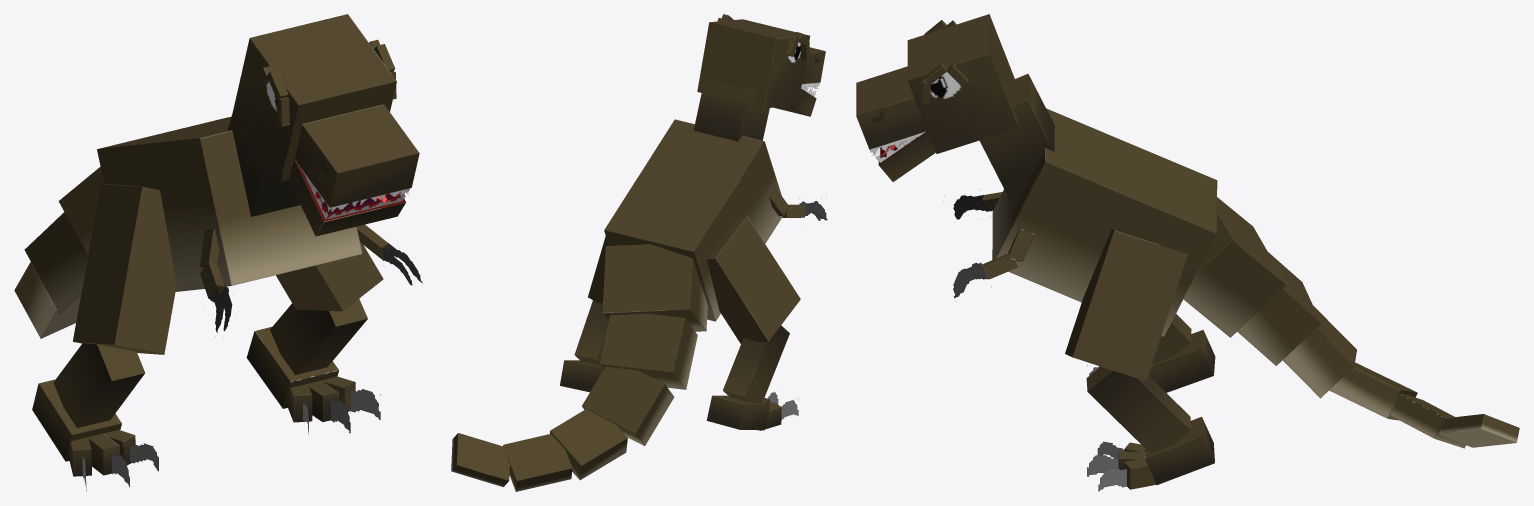
File: animateddinosaur6.obj
3 renders of one model, left to right at view 1: azimuth 30°, elevation 25°; view 2: azimuth 150°, elevation 25°; view 3: azimuth 270°, elevation 25°, orthographic. The views are drawn at different scales.
Visible parts, largest first — view 1: Object_6, Object_64, Object_9, Object_56, Object_12, Object_34, Object_31, Object_95, Object_53, Object_79, Object_37, Object_15 (+13 smaller); view 2: Object_6, Object_9, Object_64, Object_92, Object_95, Object_98, Object_53, Object_101, Object_12, Object_104, Object_107, Object_15 (+5 smaller); view 3: Object_6, Object_31, Object_64, Object_92, Object_34, Object_53, Object_95, Object_56, Object_98, Object_37, Object_15, Object_101 (+5 smaller).
Boxes of the visible parts, left/top/right/bottom form: Object_6: left=97, top=117, right=362, bottom=291; Object_64: left=232, top=14, right=396, bottom=181; Object_9: left=73, top=183, right=176, bottom=354; Object_56: left=294, top=104, right=419, bottom=207; Object_12: left=53, top=343, right=144, bottom=427; Object_34: left=270, top=299, right=367, bottom=374; Object_31: left=276, top=242, right=383, bottom=311; Object_95: left=24, top=212, right=87, bottom=314; Object_53: left=227, top=114, right=300, bottom=216; Object_79: left=289, top=159, right=405, bottom=236; Object_37: left=246, top=327, right=338, bottom=408; Object_15: left=32, top=379, right=121, bottom=461; Object_6: left=604, top=119, right=782, bottom=321; Object_9: left=707, top=216, right=800, bottom=343; Object_64: left=697, top=19, right=809, bottom=108; Object_92: left=602, top=244, right=707, bottom=331; Object_95: left=599, top=313, right=697, bottom=389; Object_98: left=582, top=366, right=674, bottom=445; Object_53: left=693, top=80, right=769, bottom=141; Object_101: left=549, top=409, right=627, bottom=479; Object_12: left=723, top=325, right=789, bottom=403; Object_104: left=503, top=434, right=572, bottom=491; Object_107: left=451, top=433, right=509, bottom=486; Object_15: left=706, top=395, right=770, bottom=430; Object_6: left=992, top=108, right=1217, bottom=336; Object_31: left=1065, top=229, right=1187, bottom=381; Object_64: left=907, top=14, right=1018, bottom=153; Object_92: left=1183, top=197, right=1286, bottom=337; Object_34: left=1086, top=366, right=1191, bottom=453; Object_53: left=979, top=74, right=1054, bottom=208; Object_95: left=1237, top=252, right=1321, bottom=365; Object_56: left=856, top=66, right=927, bottom=149; Object_98: left=1282, top=305, right=1356, bottom=398; Object_37: left=1144, top=416, right=1214, bottom=484; Object_15: left=1148, top=330, right=1215, bottom=392; Object_101: left=1329, top=362, right=1417, bottom=420.
Size of the model in its own units: 2.25 by 3.49 by 5.26.
